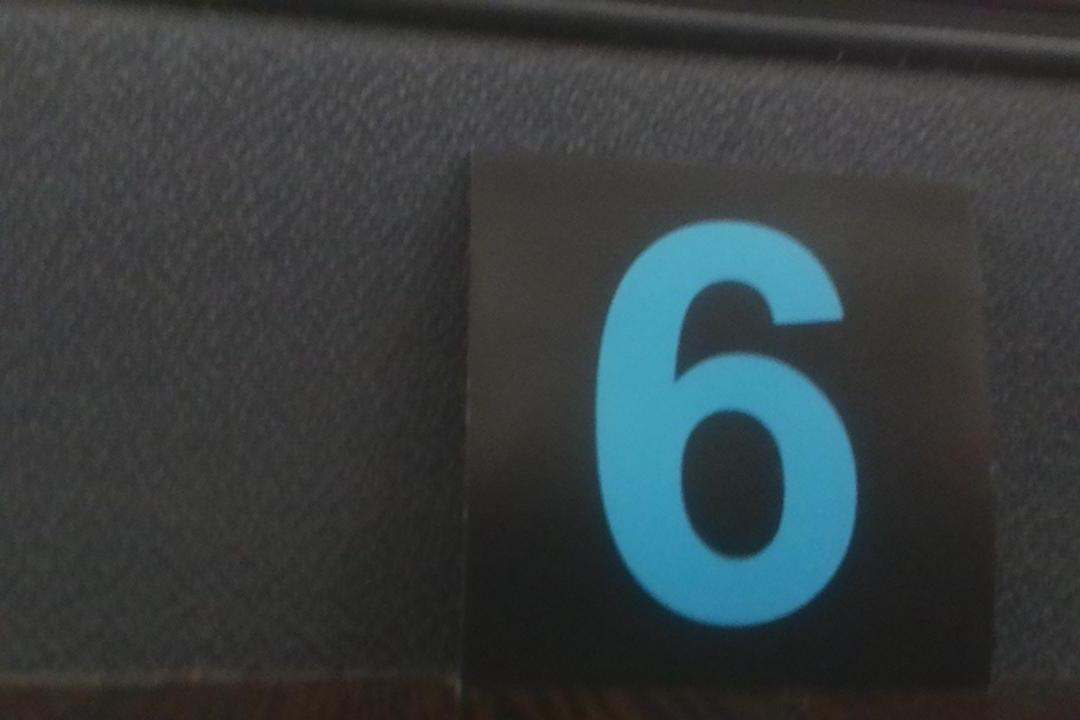six: (467, 142, 985, 688)
